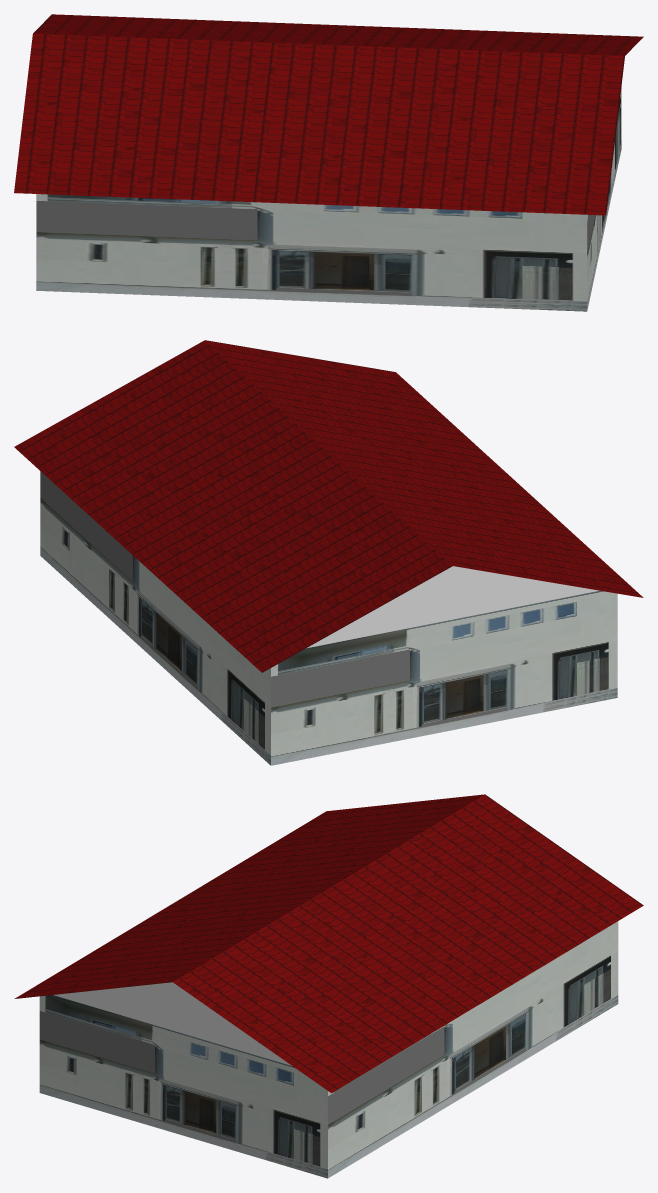
3 views of the same model, one above another, from view 1: azimuth 30°, elevation 25°; view 2: azimuth 150°, elevation 25°; view 3: azimuth 270°, elevation 25° (orthographic). The views are drawn at different scales.
Parts seen in each view (by area): view 1: CityEngineMaterial_17_m, CityEngineMaterial_11_m; view 2: CityEngineMaterial_17_m, CityEngineMaterial_11_m, CityEngineMaterial_3_m; view 3: CityEngineMaterial_17_m, CityEngineMaterial_11_m, CityEngineMaterial_3_m.
Boxes of the visible parts, x1,y1,x2,y2 form: CityEngineMaterial_17_m: (14,14,643,215); CityEngineMaterial_11_m: (36,86,621,311); CityEngineMaterial_17_m: (14,340,643,672); CityEngineMaterial_11_m: (40,471,617,765); CityEngineMaterial_3_m: (306,566,598,648); CityEngineMaterial_17_m: (14,794,643,1093); CityEngineMaterial_11_m: (39,921,618,1178); CityEngineMaterial_3_m: (54,982,291,1065).
Bounding box in the file's own units: 35.16 × 9.3 × 33.17.
